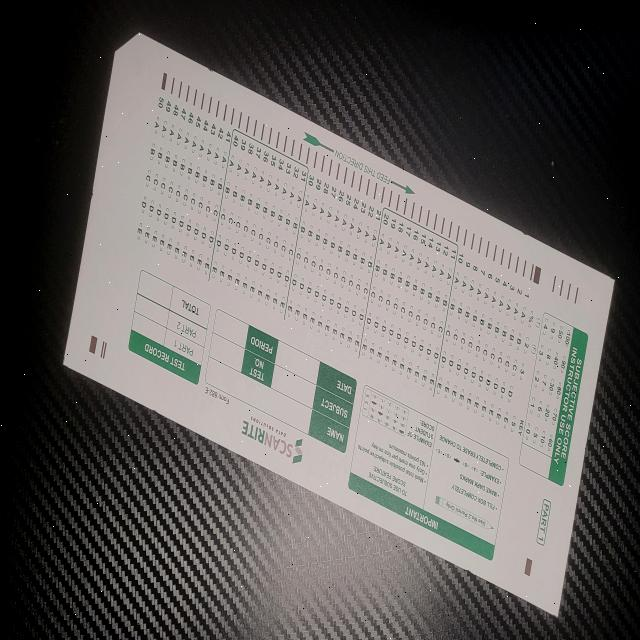scantron: (59, 32, 615, 622)
